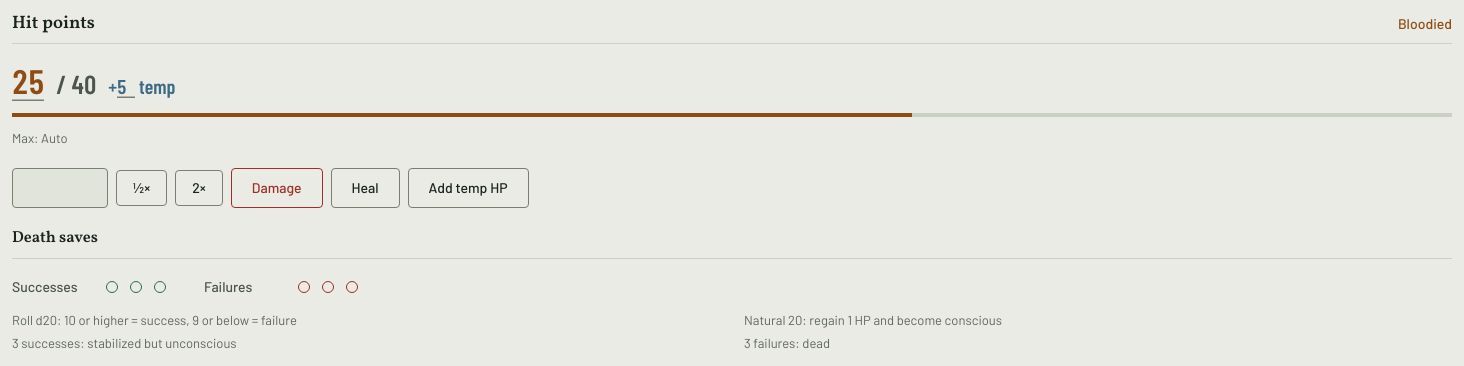
Test: HitPointTracker › single HP amount control › halves (rounding down) and doubles the amount
The width and height of the screenshot is (1464, 366).
In the field named "HP amount": (60, 188) [12,168,108,208], type "9"
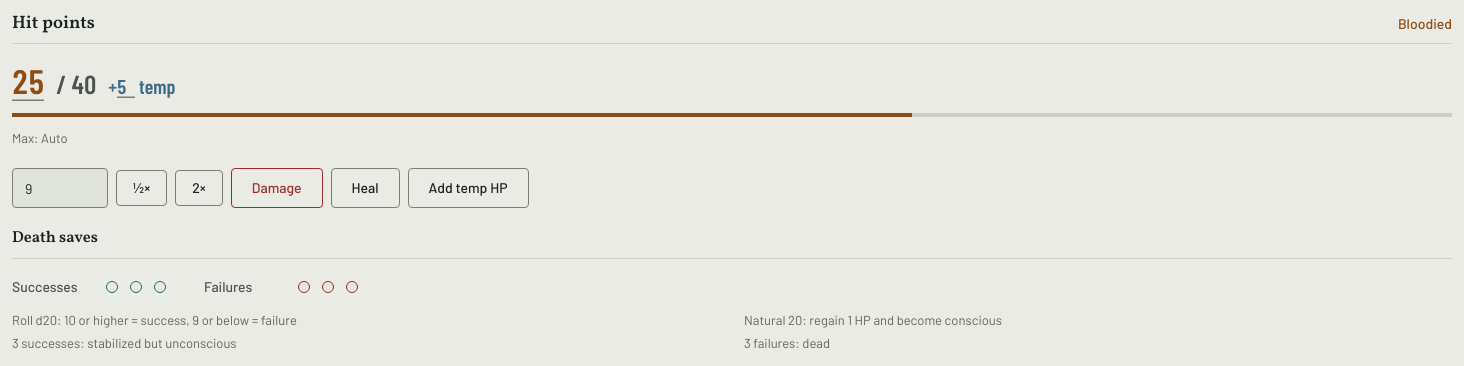
Click the button named "Halve damage (resistance)": (142, 188) [116,170,167,206]
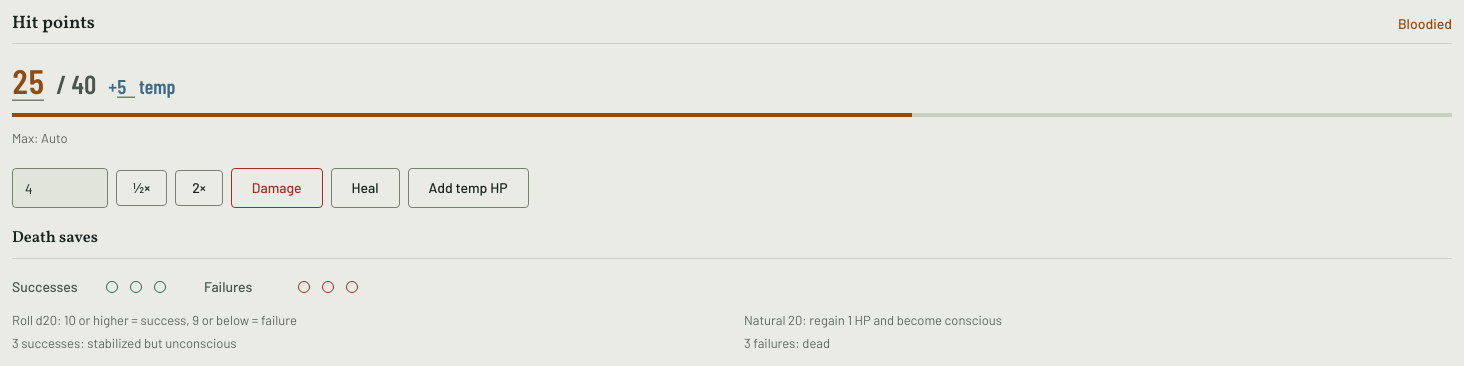
Check: the field named "HP amount" holds "4"
Replace the text in the field named "HP amount" with "8": (60, 188) [12,168,108,208]
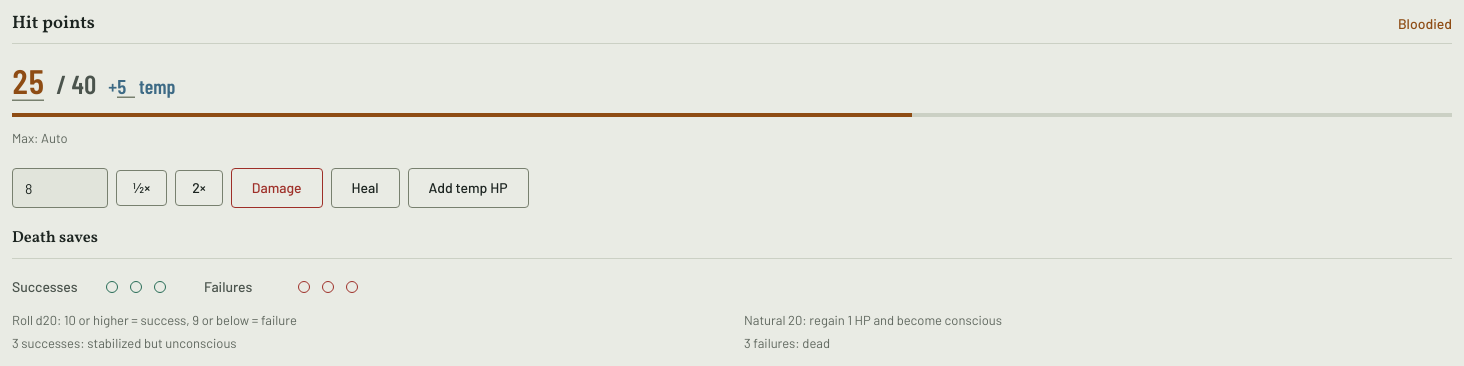
Click the button named "Double damage (vulnerability)": (199, 188) [175,170,223,206]
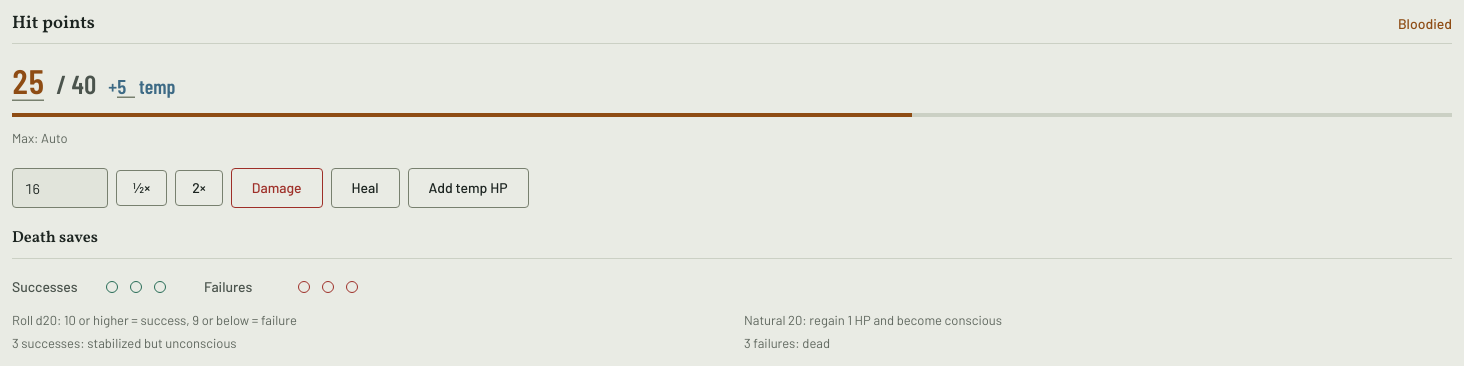
Check: the field named "HP amount" holds "16", box [12,168,108,208]
